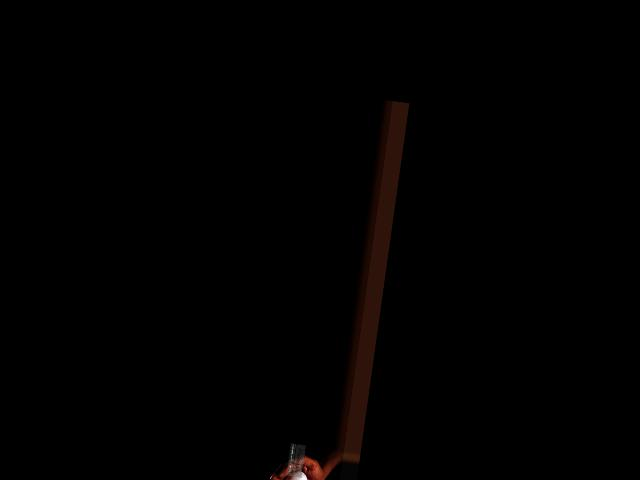egg: (282, 470, 307, 480)
